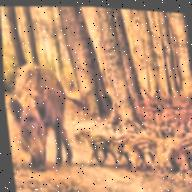boar: (3, 54, 76, 183), (72, 116, 113, 176), (115, 131, 158, 167), (166, 131, 192, 175), (100, 132, 115, 161)
